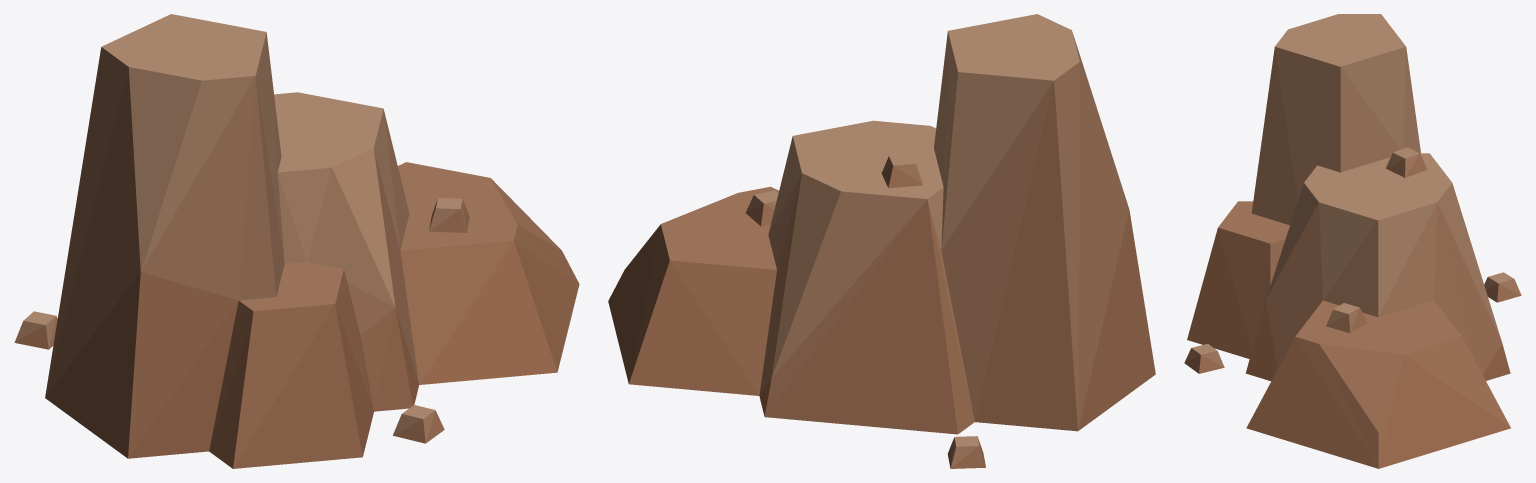
The model's file is survival_rock_sand_c.glb.
3 renders of one model, left to right at view 1: azimuth 30°, elevation 25°; view 2: azimuth 150°, elevation 25°; view 3: azimuth 270°, elevation 25°, orthographic. The views are drawn at different scales.
Parts seen in each view (by area): view 1: survival_rock_sand_c; view 2: survival_rock_sand_c; view 3: survival_rock_sand_c.
Part boxes in pixels (x1,y1,x2,y2): survival_rock_sand_c: [14, 14, 579, 468]; survival_rock_sand_c: [608, 14, 1155, 468]; survival_rock_sand_c: [1184, 14, 1521, 468].
Bounding box in the file's own units: 0.7837 × 0.51 × 0.5691.
